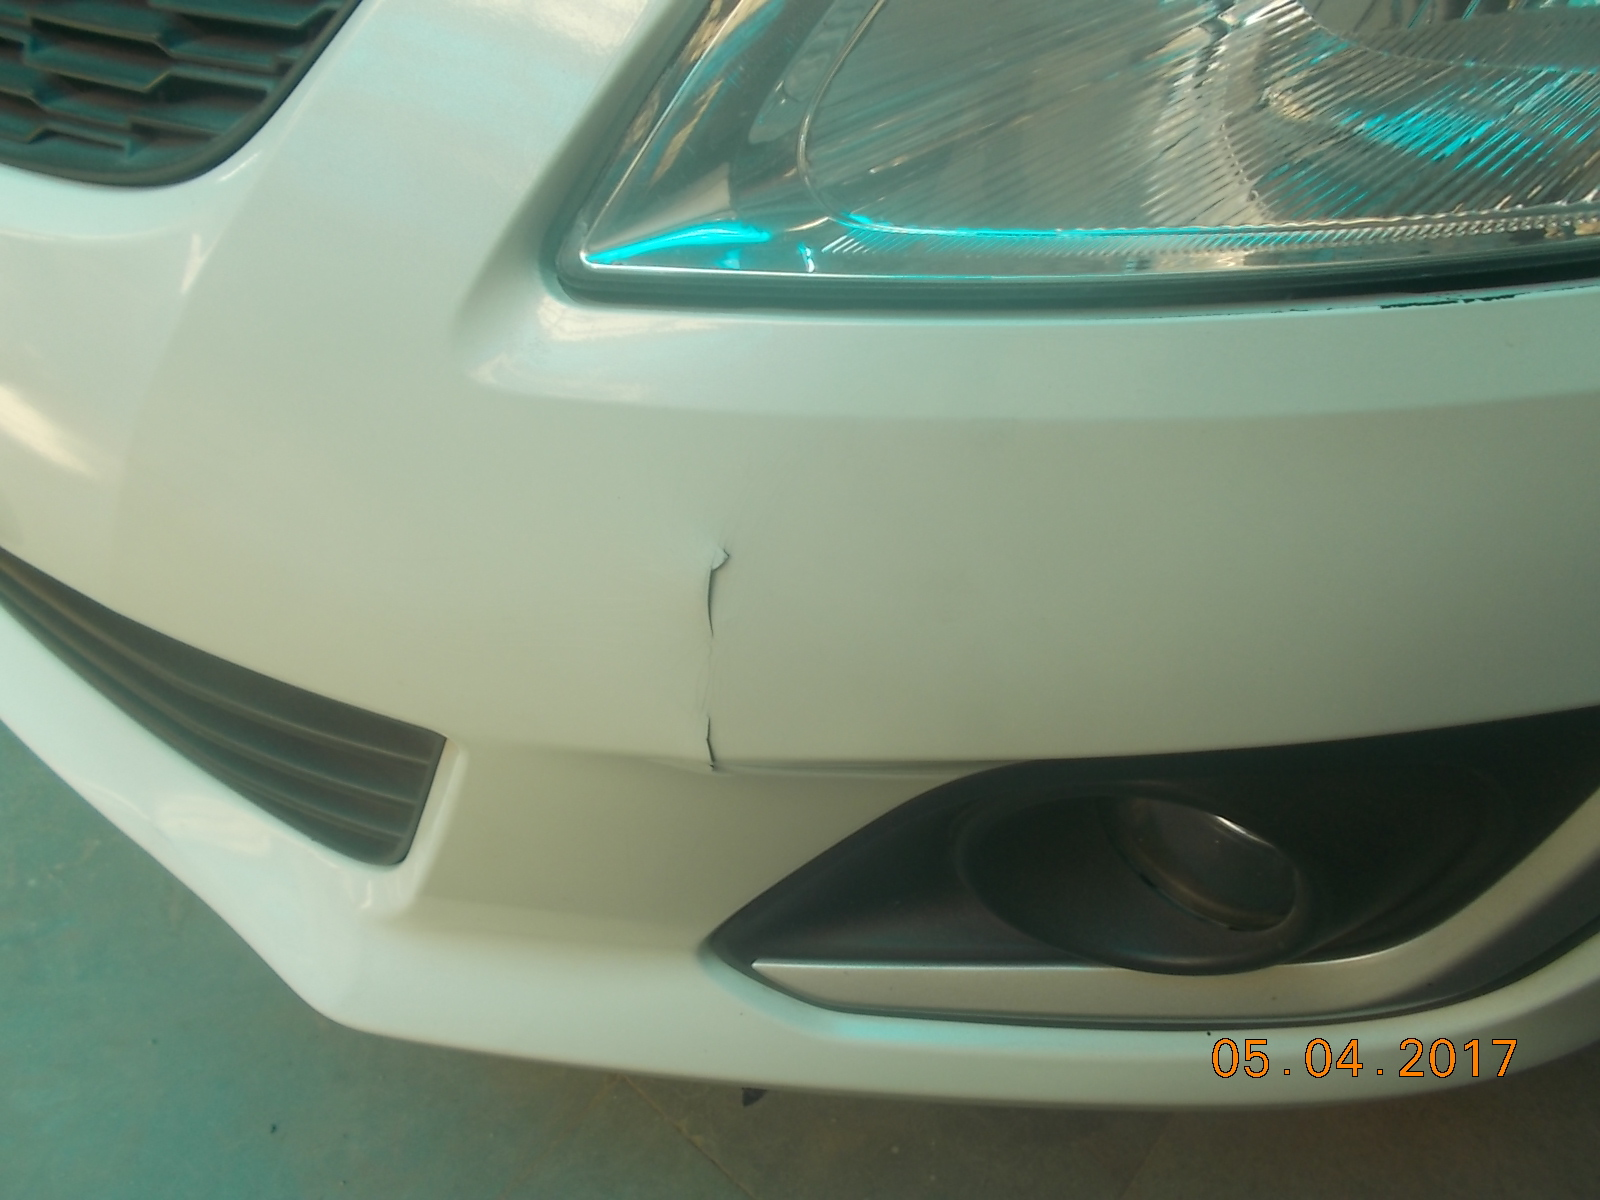Tear: (698, 712, 745, 792), (700, 542, 740, 632)
